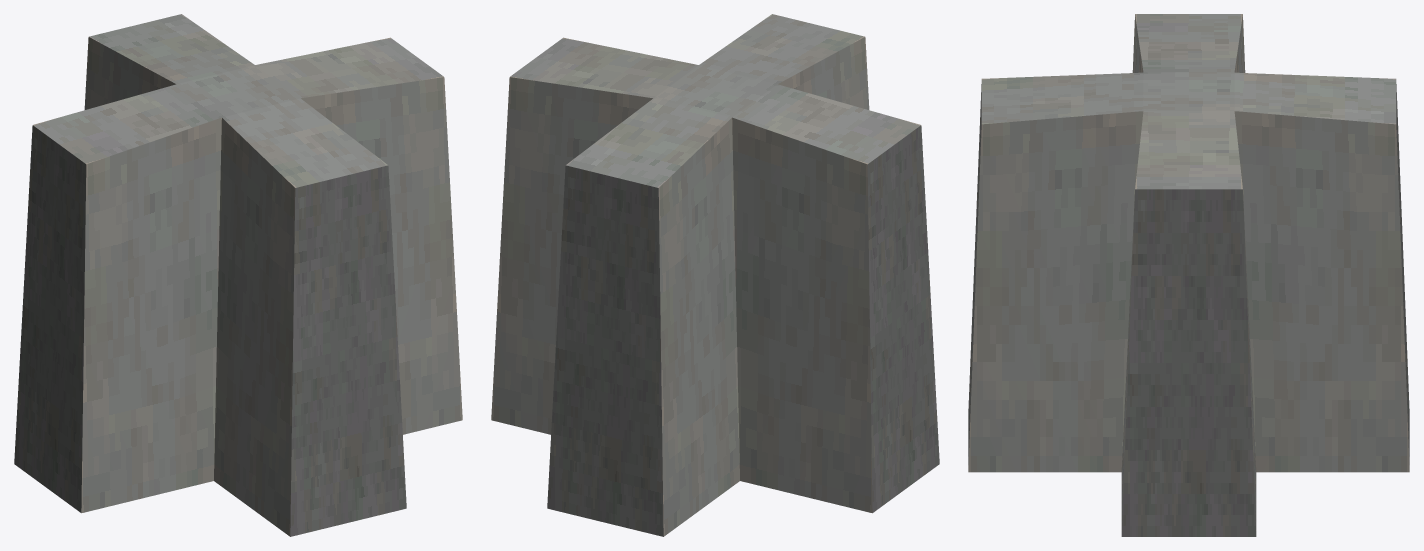
Rendered from mun_all_military_column_huge_impl_s01_l2.fbx.
3 renders of one model, left to right at view 1: azimuth 30°, elevation 25°; view 2: azimuth 150°, elevation 25°; view 3: azimuth 270°, elevation 25°, orthographic.
Parts seen in each view (by area): view 1: mesh_node; view 2: mesh_node; view 3: mesh_node.
Part boxes in pixels (box(x1,y1,x2,y2)): mesh_node: box(14, 14, 462, 536); mesh_node: box(491, 14, 939, 536); mesh_node: box(968, 14, 1409, 536).
Bounding box in the file's own units: 8.19 × 7.2 × 8.19.
